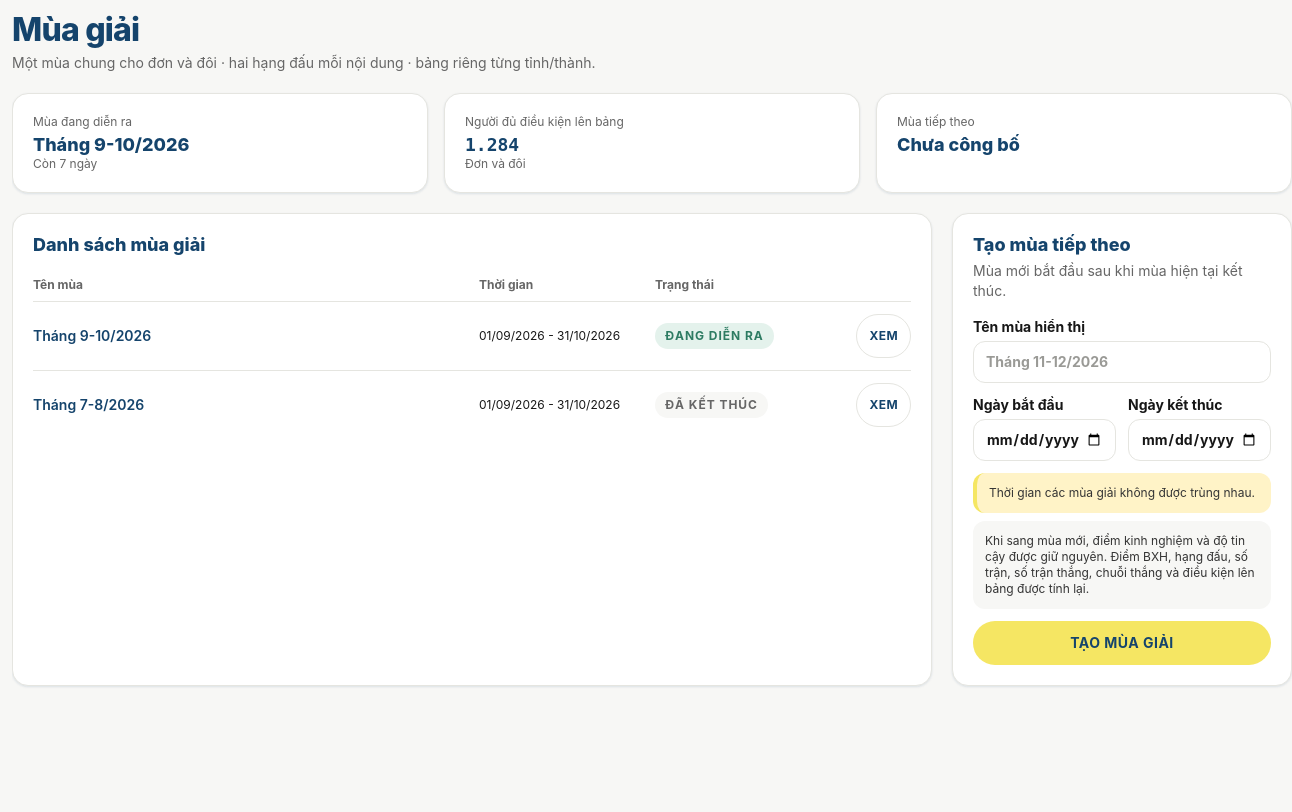
lists seasons with one-line names and shows the overlap error from create
The width and height of the screenshot is (1292, 812).
Check: the 1st text "01/09/2026 - 31/10/2026" is shown, box [479, 301, 655, 370]
Check: the 1st button "Xem" is shown, box [856, 314, 911, 358]
Type "Tháng 10-11/2026" into the field labelled "Tên mùa hiển thị" at (1122, 362), box [973, 341, 1271, 383]
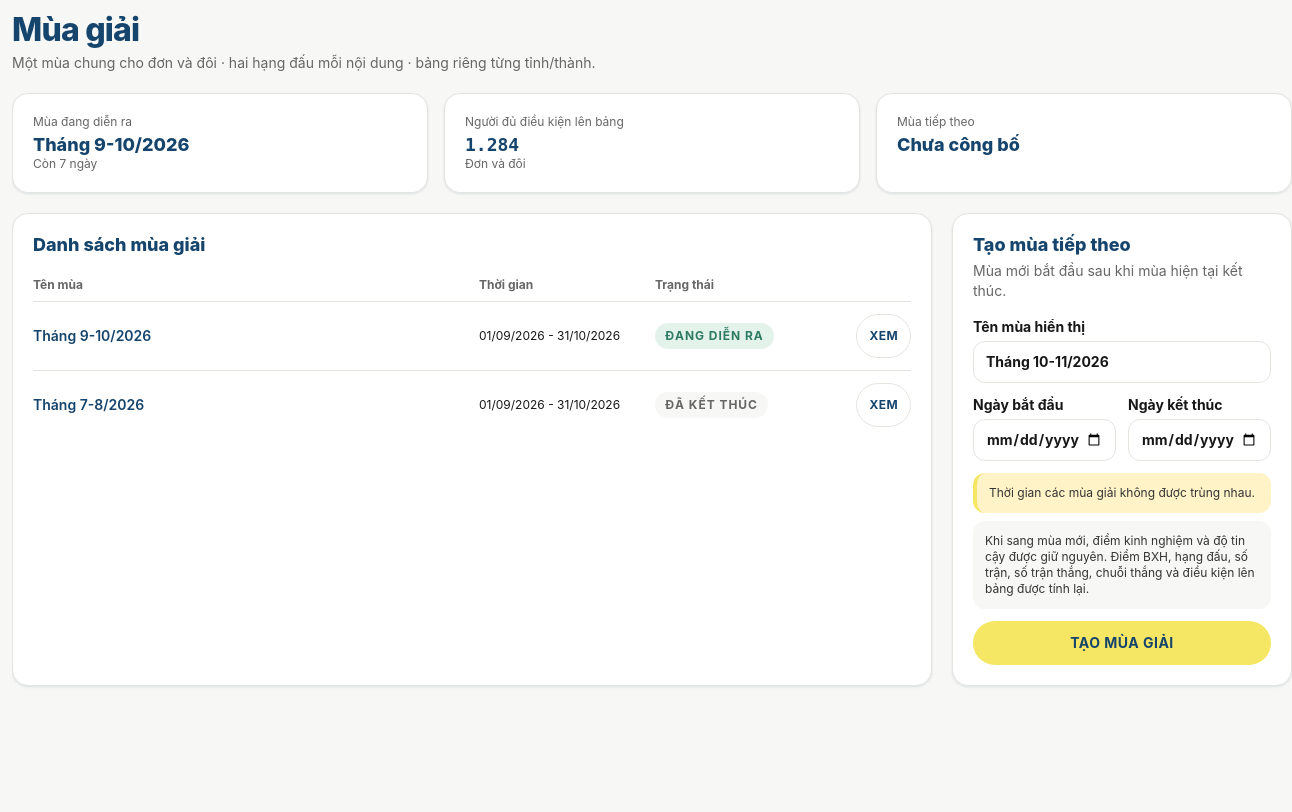
Type "2026-10-15" into the date field labelled "Ngày bắt đầu" at (1044, 440), box [973, 419, 1116, 461]
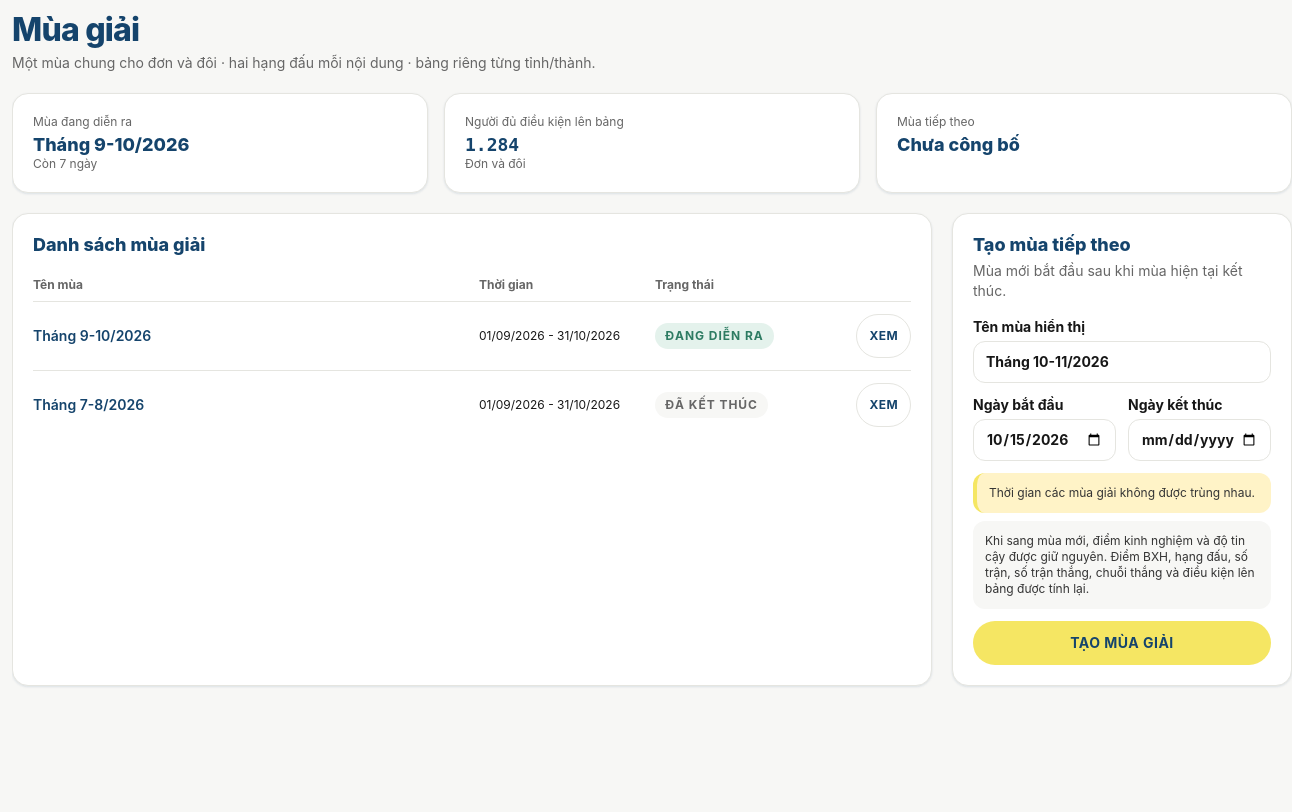
Type "2026-11-30" into the date field labelled "Ngày kết thúc" at (1200, 440), box [1128, 419, 1271, 461]
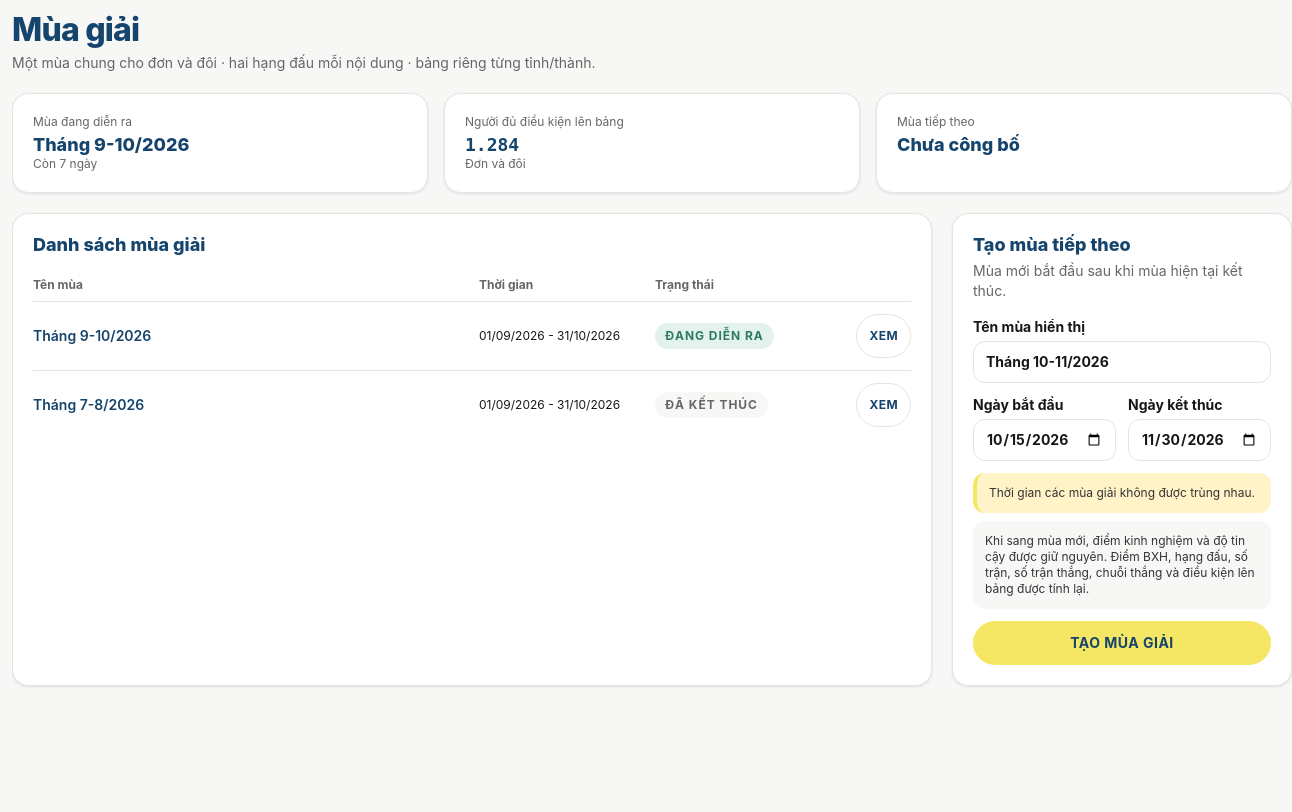
Click the button "Tạo mùa giải" at (1122, 643), box [973, 621, 1271, 665]
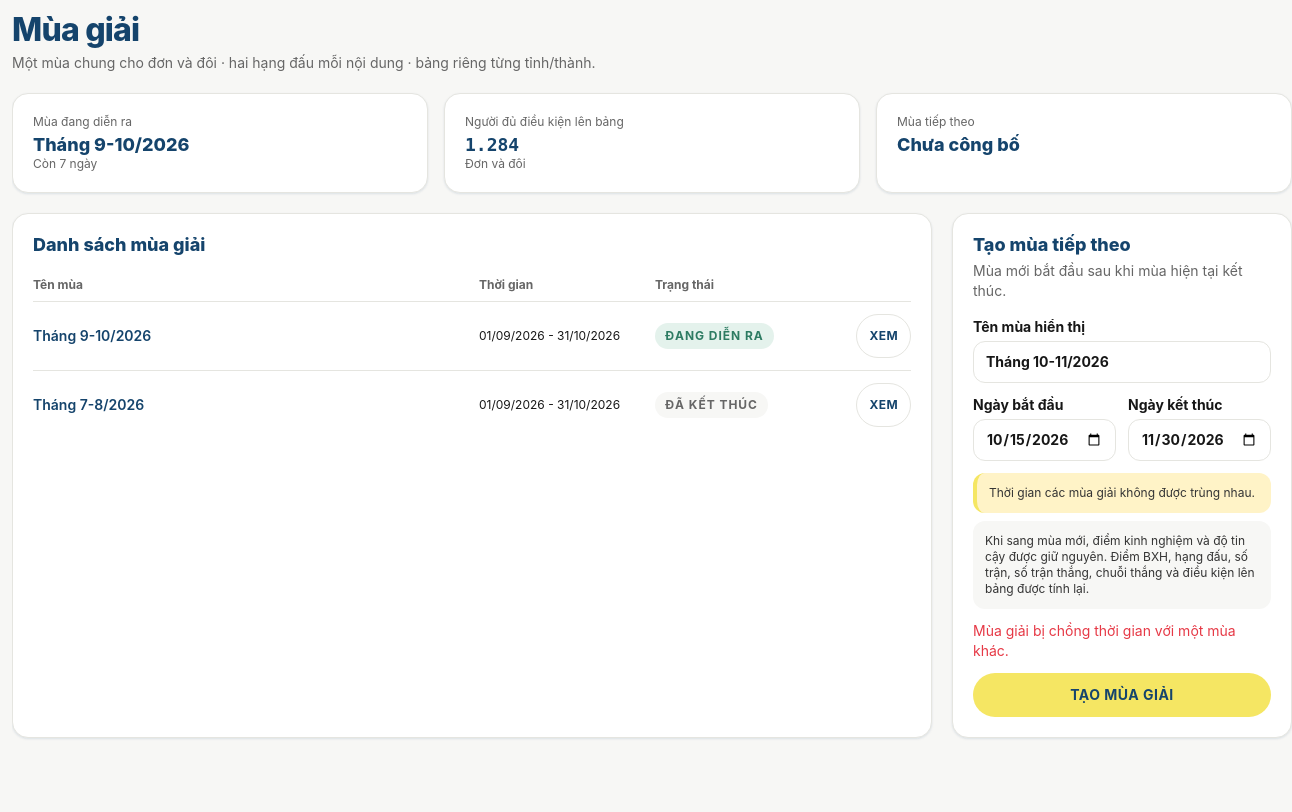
Check: the message shows "chồng thời gian", box [973, 622, 1236, 659]
